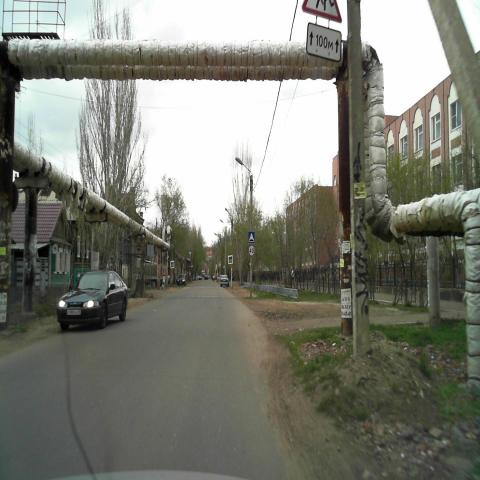3_24: (248, 244, 255, 256)
5_19_1: (228, 254, 233, 264), (170, 260, 174, 269)
5_20: (248, 230, 255, 244)
8_2_1: (303, 22, 343, 64)
